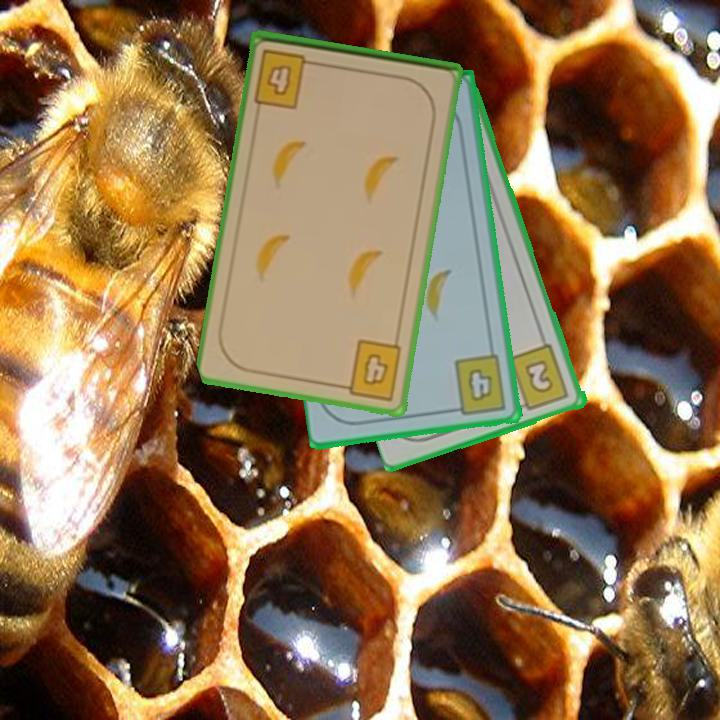2b: (507, 341, 572, 414)
4b: (250, 45, 322, 112), (335, 336, 405, 403), (447, 351, 509, 417)
